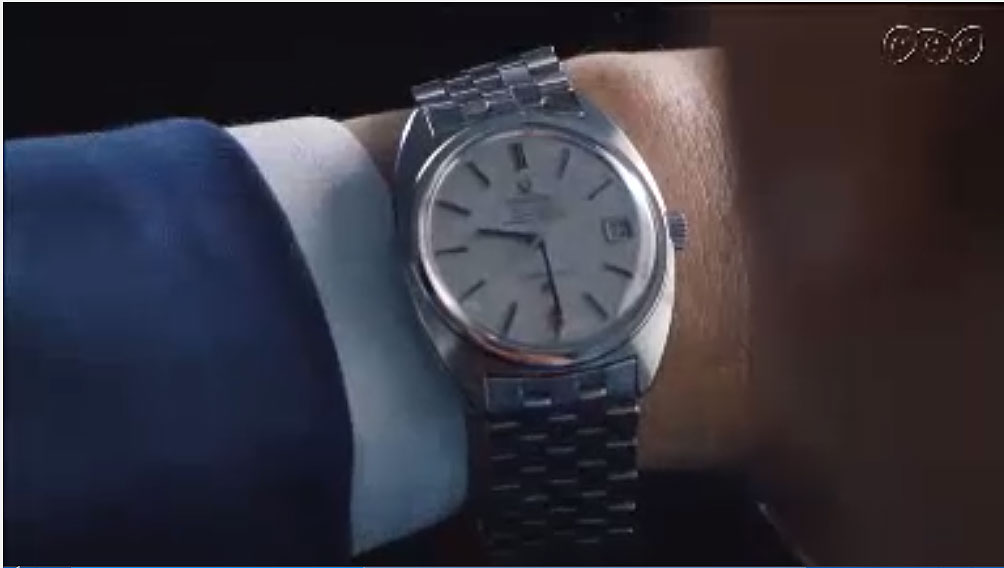clock: (399, 112, 672, 369)
